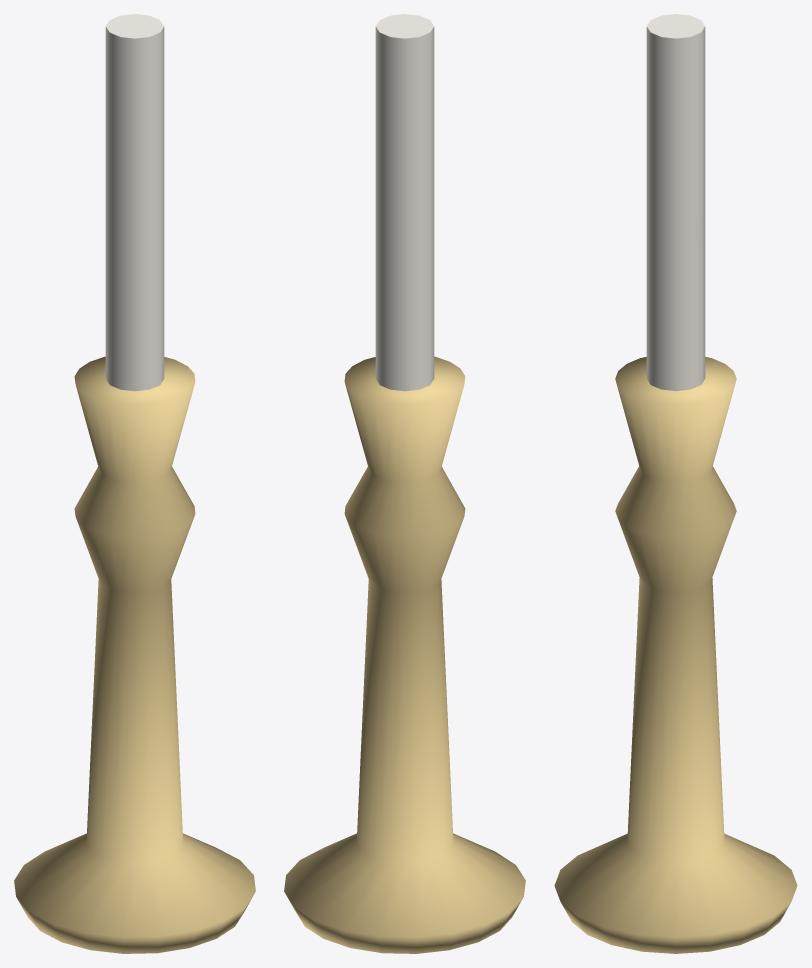
File: candlestick.glb
3 views of the same model, side by side, from view 1: azimuth 30°, elevation 25°; view 2: azimuth 150°, elevation 25°; view 3: azimuth 270°, elevation 25° (orthographic).
Visible parts, largest first — view 1: stick, candle; view 2: stick, candle; view 3: stick, candle.
Part boxes in pixels (bbox=[...]): stick: bbox=[14, 356, 255, 953]; candle: bbox=[105, 14, 164, 391]; stick: bbox=[284, 356, 525, 953]; candle: bbox=[375, 14, 434, 391]; stick: bbox=[554, 357, 797, 953]; candle: bbox=[646, 14, 705, 391].
Bounding box in the file's own units: 0.1 × 0.4 × 0.1.
